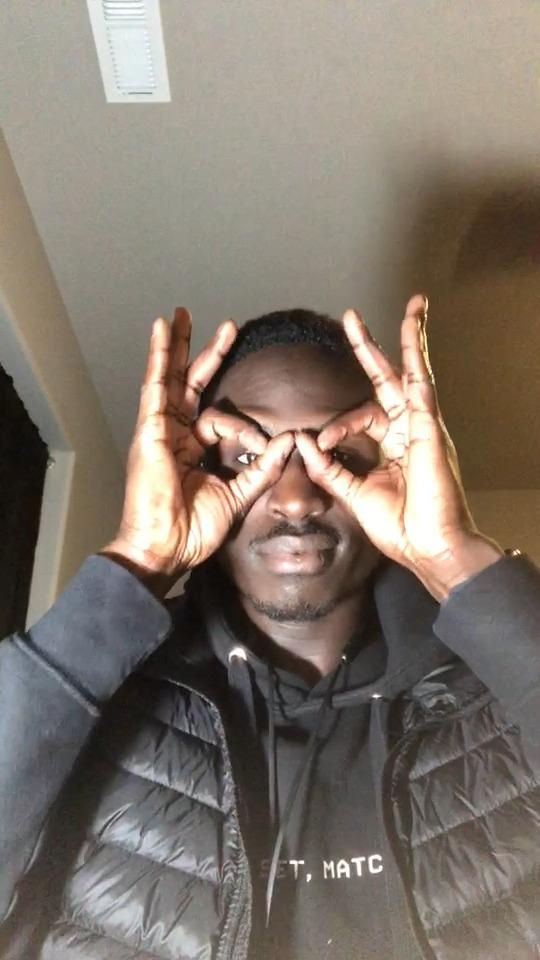face: (195, 347, 391, 622)
